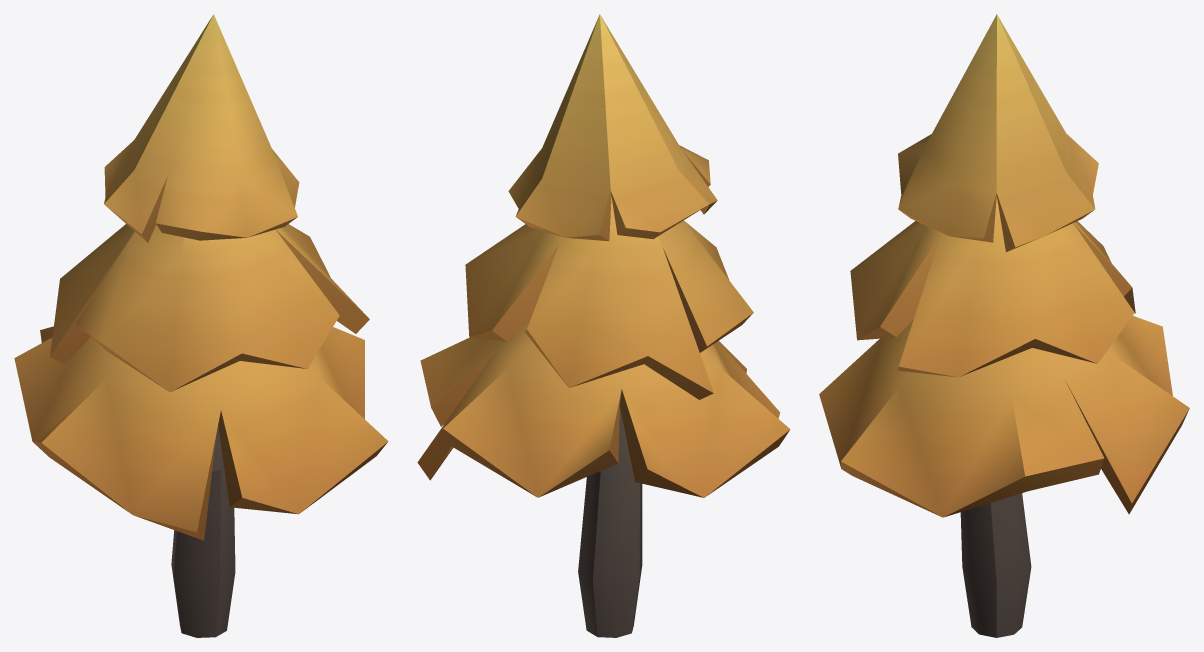
File: kay-pinheiro-amarelo-pequeno.gltf
The picture shows the model from 3 angles, left to right: view 1: azimuth 30°, elevation 25°; view 2: azimuth 150°, elevation 25°; view 3: azimuth 270°, elevation 25°; orthographic projection.
Visible parts, largest first — view 1: tree_pine_yellow_small; view 2: tree_pine_yellow_small; view 3: tree_pine_yellow_small.
Boxes of the visible parts, x1,y1,x2,y2 form: tree_pine_yellow_small: [14, 14, 388, 637]; tree_pine_yellow_small: [417, 14, 790, 637]; tree_pine_yellow_small: [819, 14, 1189, 637].
Size of the model in its own units: 1.2 by 2.02 by 1.1.
1 material, 1 textured.
